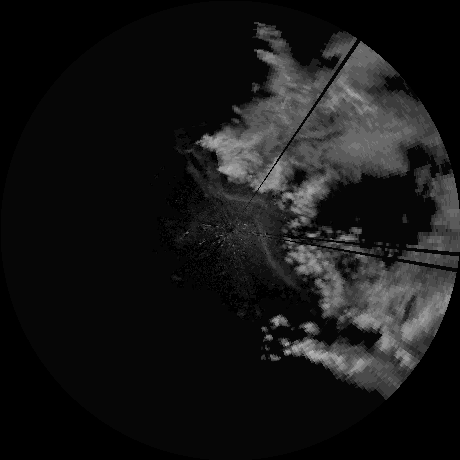frontgust: (186, 160, 269, 206), (256, 220, 302, 290)
